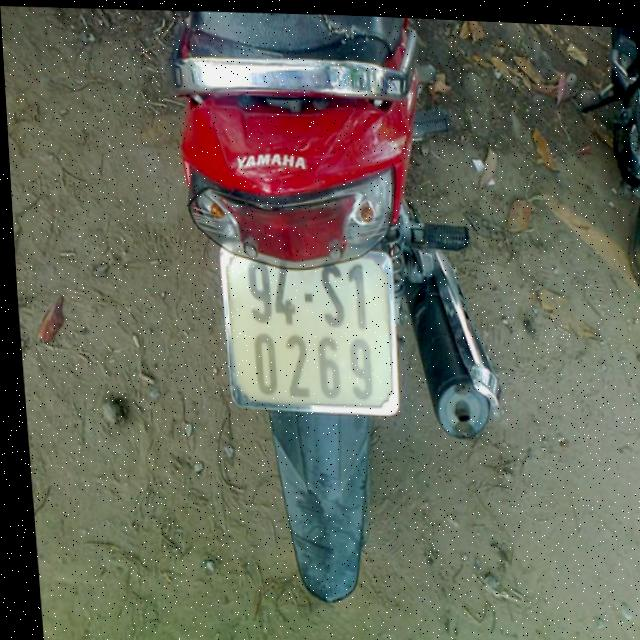motorcycle: (167, 7, 514, 618)
plate: (215, 237, 402, 419)
